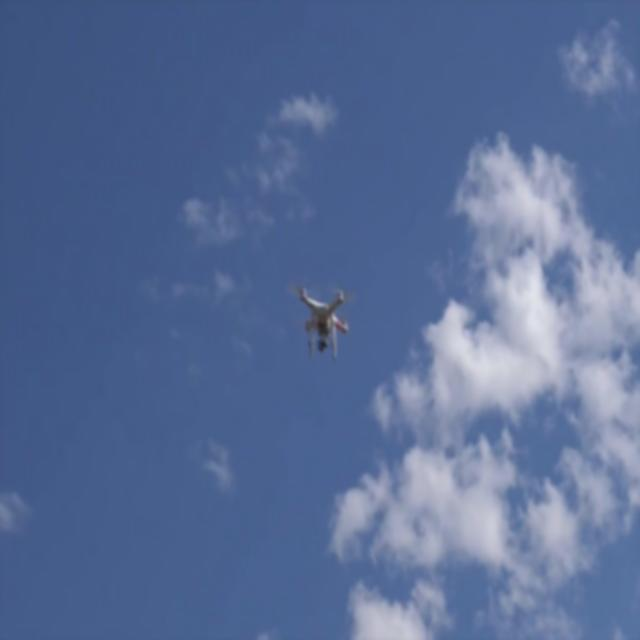UAV: (296, 288, 348, 359)
